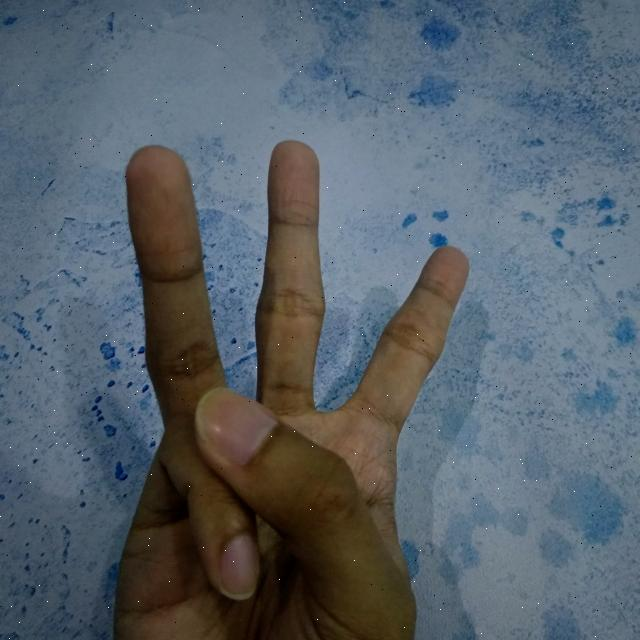W: (102, 128, 477, 640)
